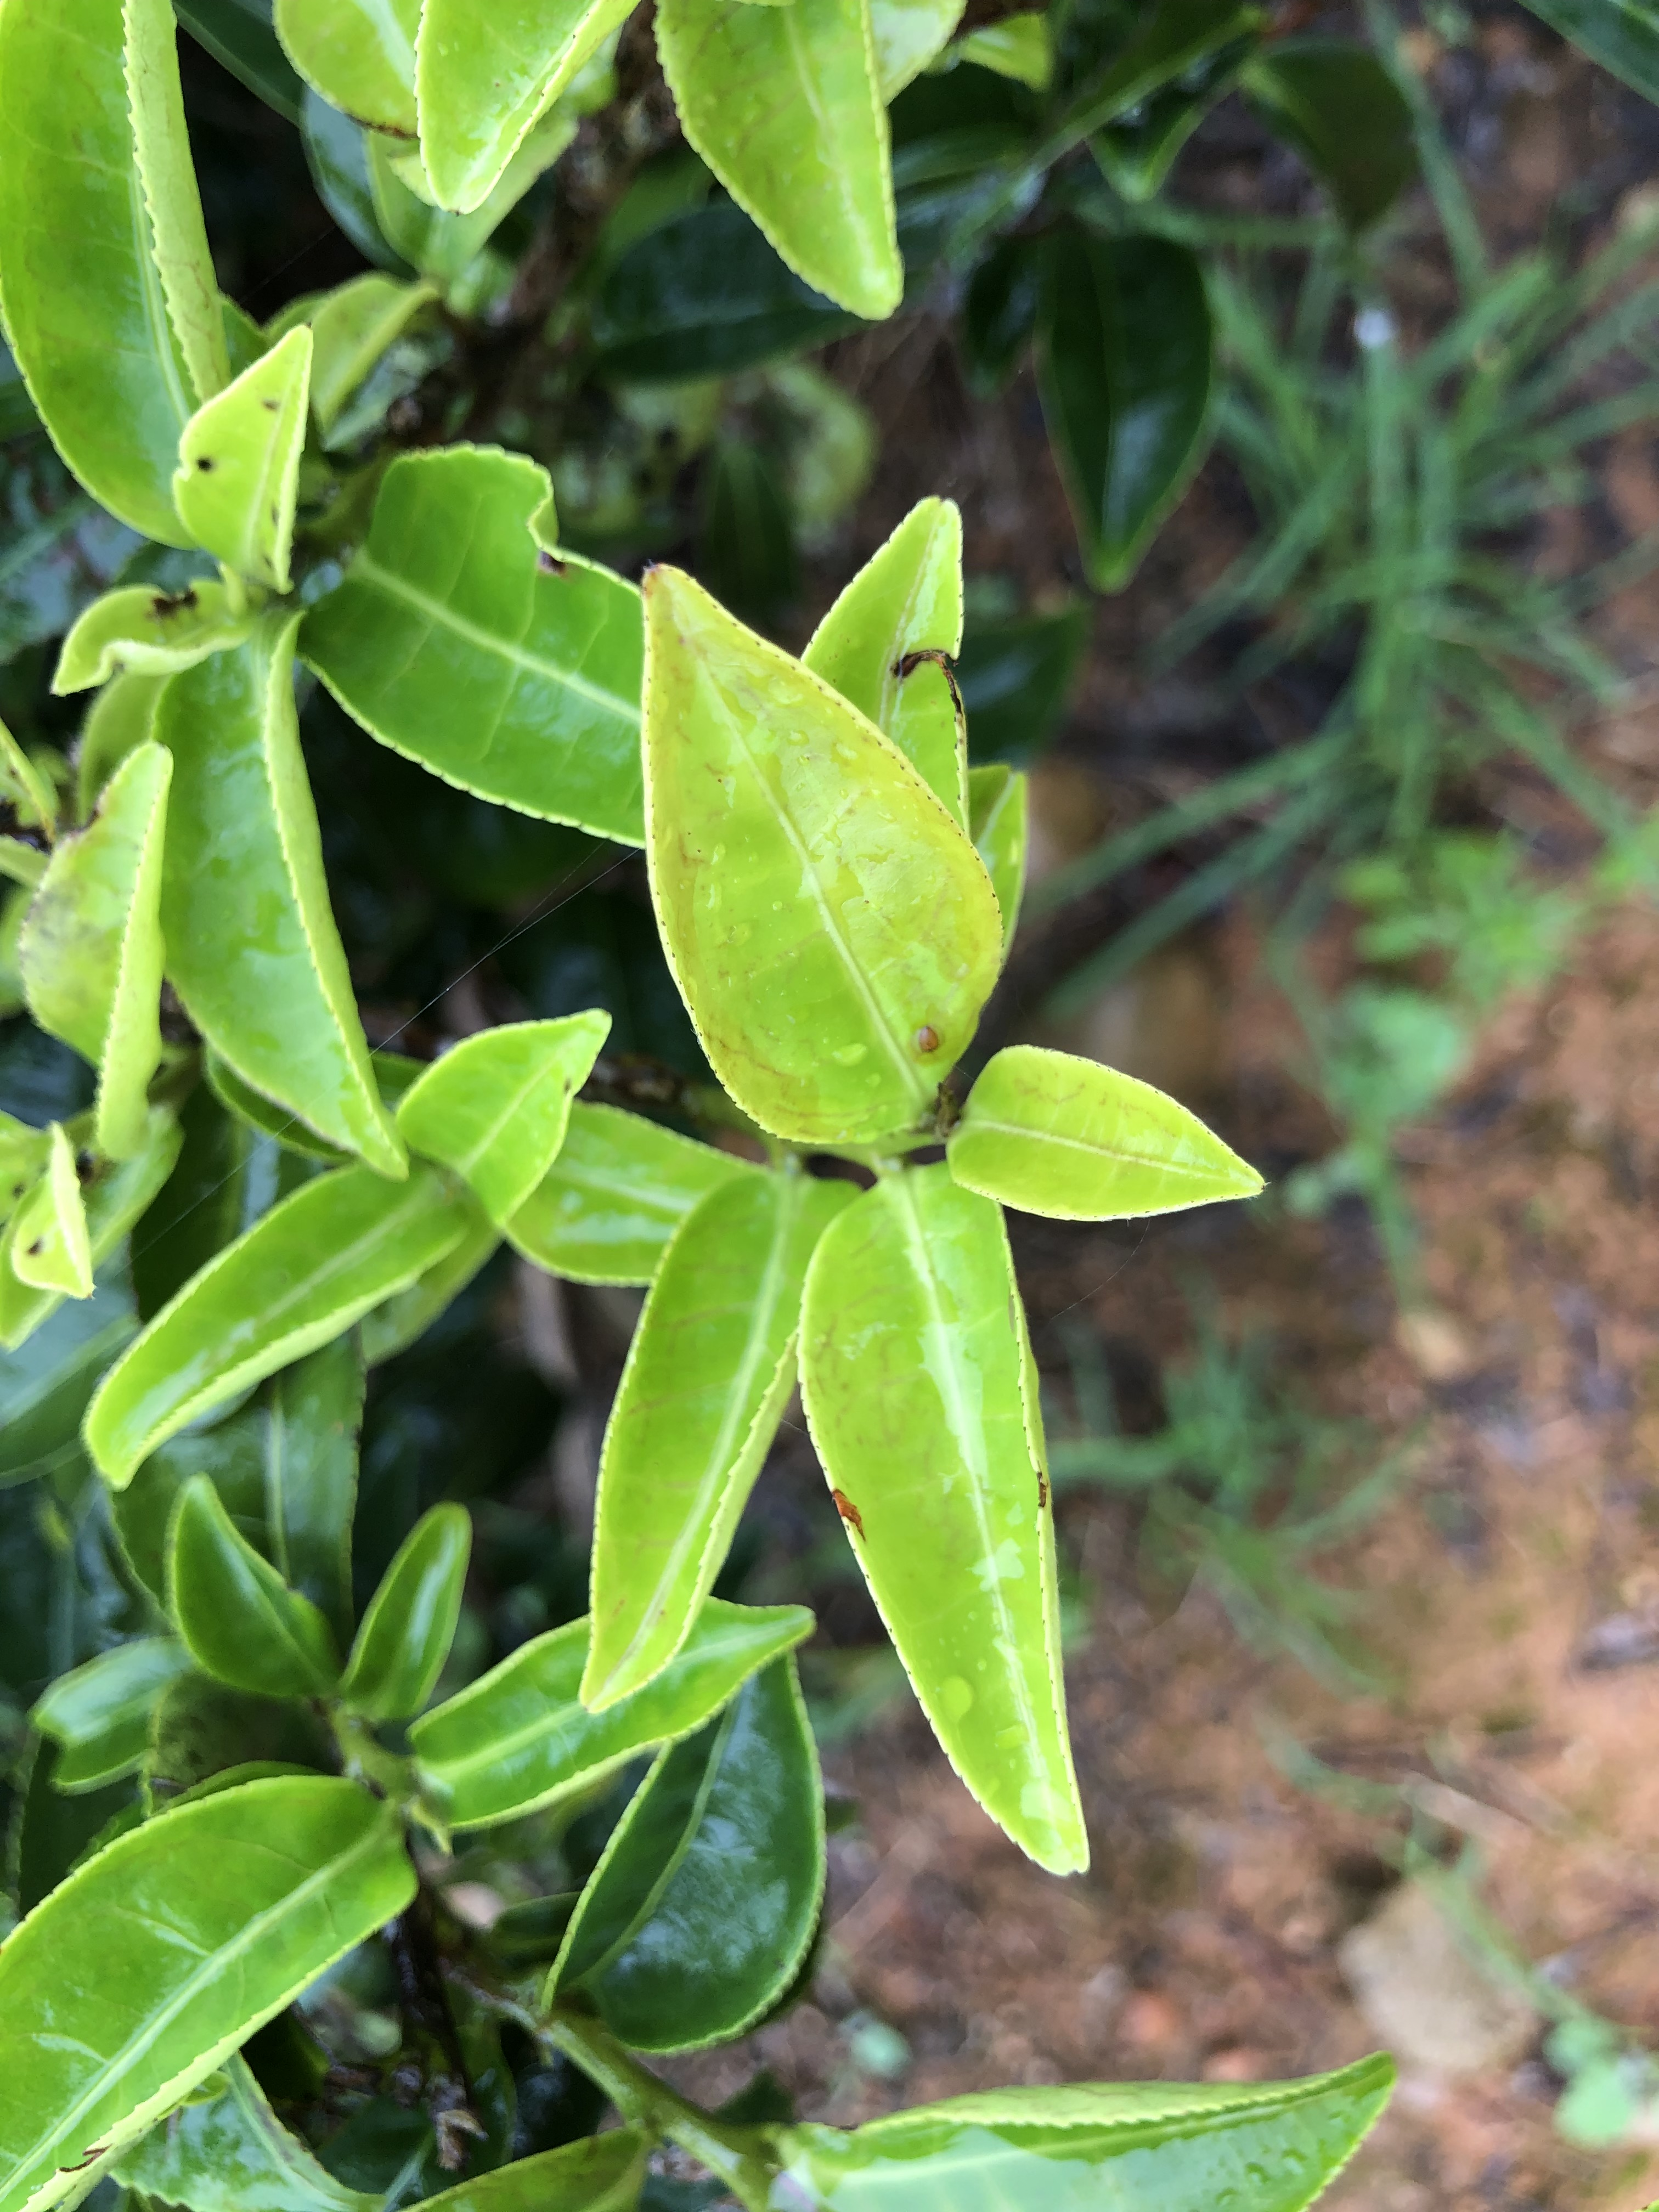formosa: (626, 550, 1012, 1155), (945, 1042, 1269, 1224)
mosquito_late: (5, 1116, 110, 1306)
